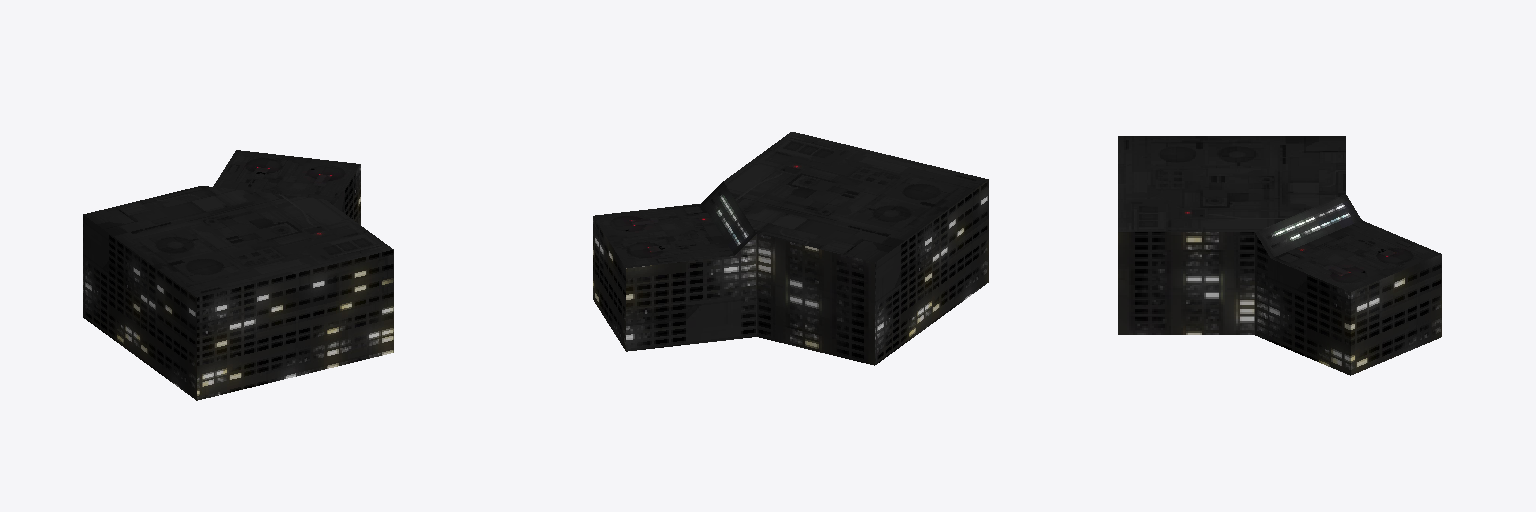
3 views of the same model, side by side, from view 1: azimuth 30°, elevation 25°; view 2: azimuth 150°, elevation 25°; view 3: azimuth 270°, elevation 25° (orthographic).
Parts seen in each view (by area): view 1: building_33; view 2: building_33; view 3: building_33.
Boxes of the visible parts, <box> form: building_33: <box>83,150,393,400</box>; building_33: <box>593,132,988,365</box>; building_33: <box>1118,136,1441,375</box>.
Bounding box in the file's own units: 125 × 44.12 × 125.
Materials: 1 (1 with a texture image).